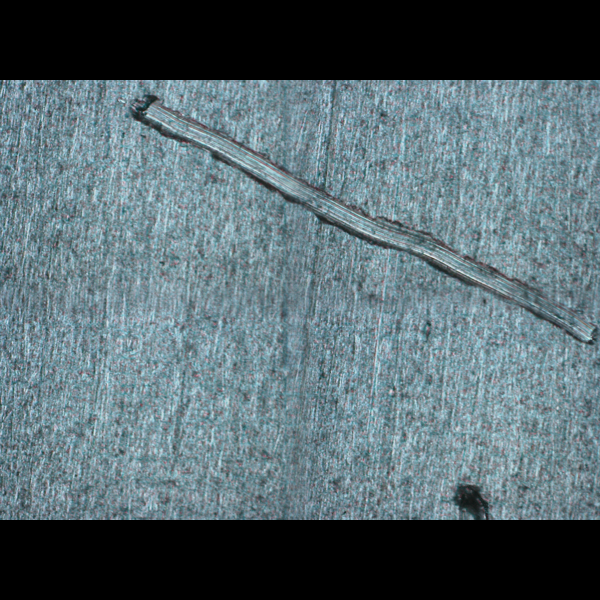d: (123, 92, 599, 349)
